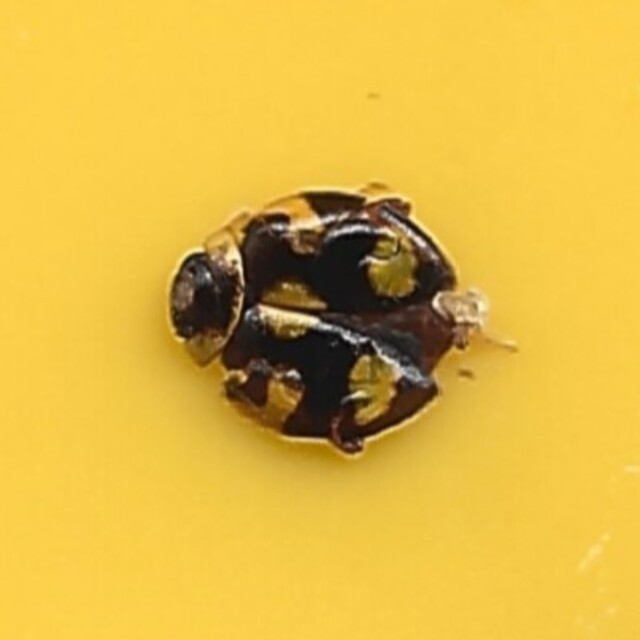Coleoptera: (159, 181, 481, 459)
